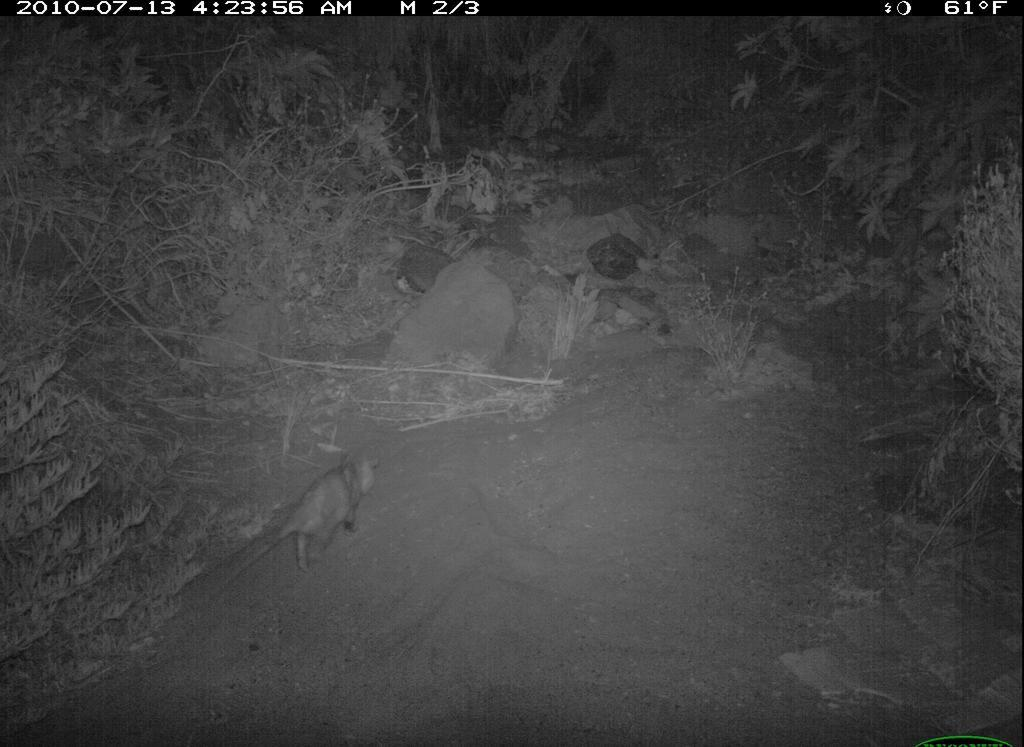opossum: (222, 443, 387, 584)
